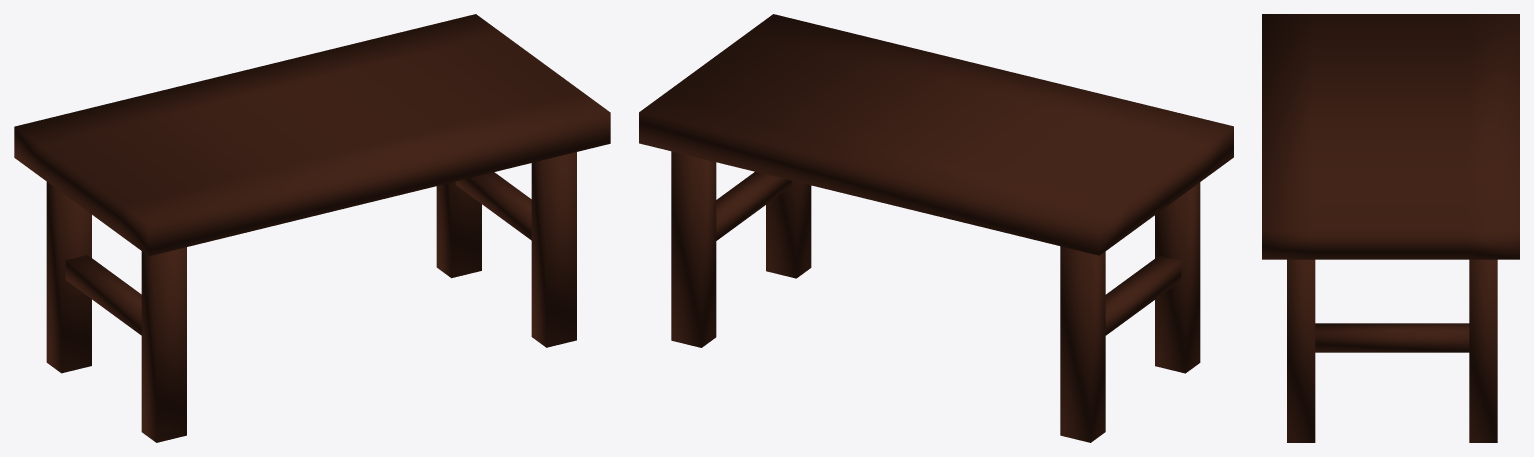
File: table_size_sample2.FBX
3 renders of one model, left to right at view 1: azimuth 30°, elevation 25°; view 2: azimuth 150°, elevation 25°; view 3: azimuth 270°, elevation 25°, orthographic. The views are drawn at different scales.
Visible parts, largest first — view 1: Box003; view 2: Box003; view 3: Box003.
Part boxes in pixels (box(x1,y1,x2,y2)): Box003: box(14, 14, 610, 442); Box003: box(639, 14, 1233, 442); Box003: box(1262, 14, 1519, 442).
Bounding box in the file's own units: 69.76 × 33.57 × 35.23.
